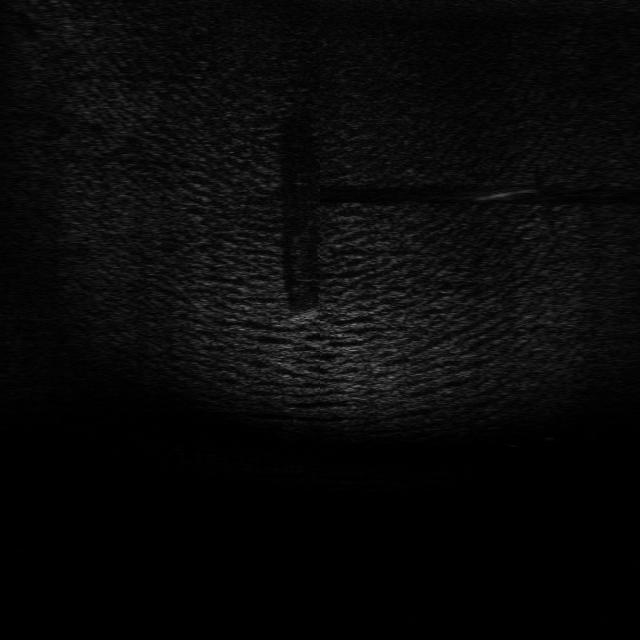cube: (284, 306, 320, 328)
